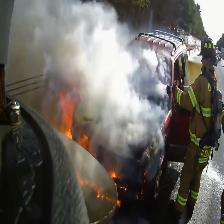fire: (50, 94, 156, 221)
nofire: (178, 39, 224, 217)
smoke: (0, 0, 180, 189)
